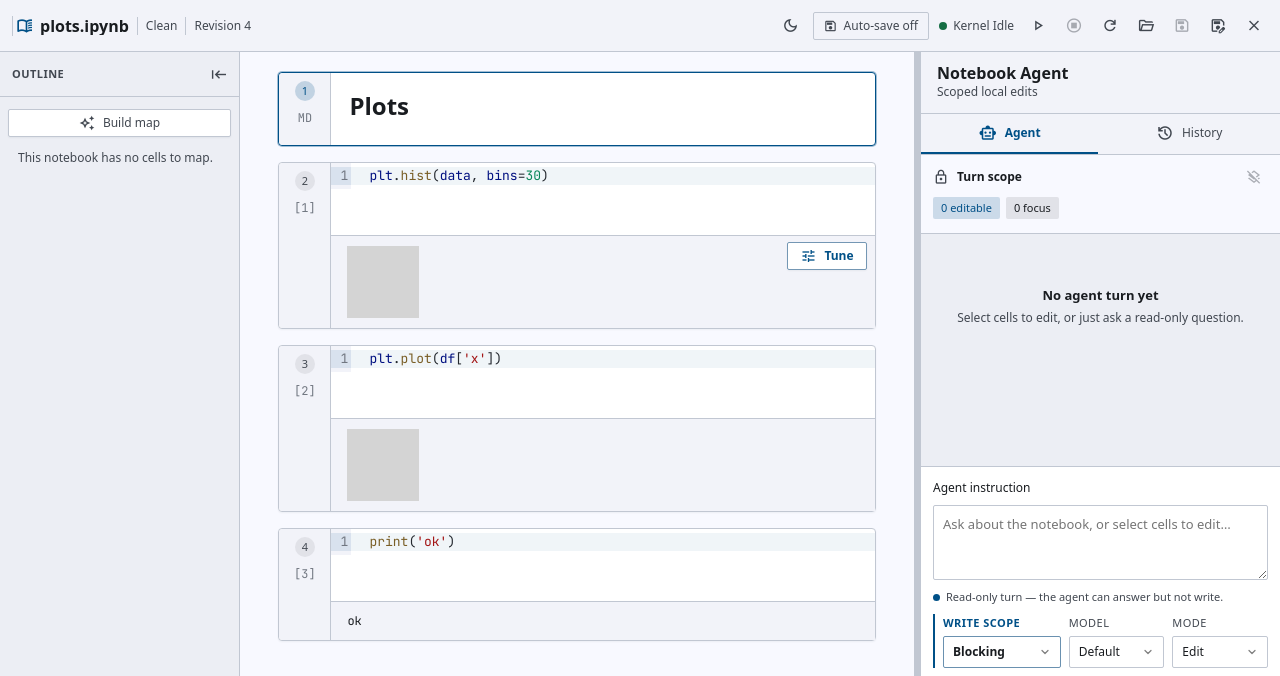
it: the Tune entry point, end to end › applies the values the user dialled in, and says the user did it
Click the button with aria-label "Tune code cell 2" at point(827, 256), box [787, 242, 867, 270]
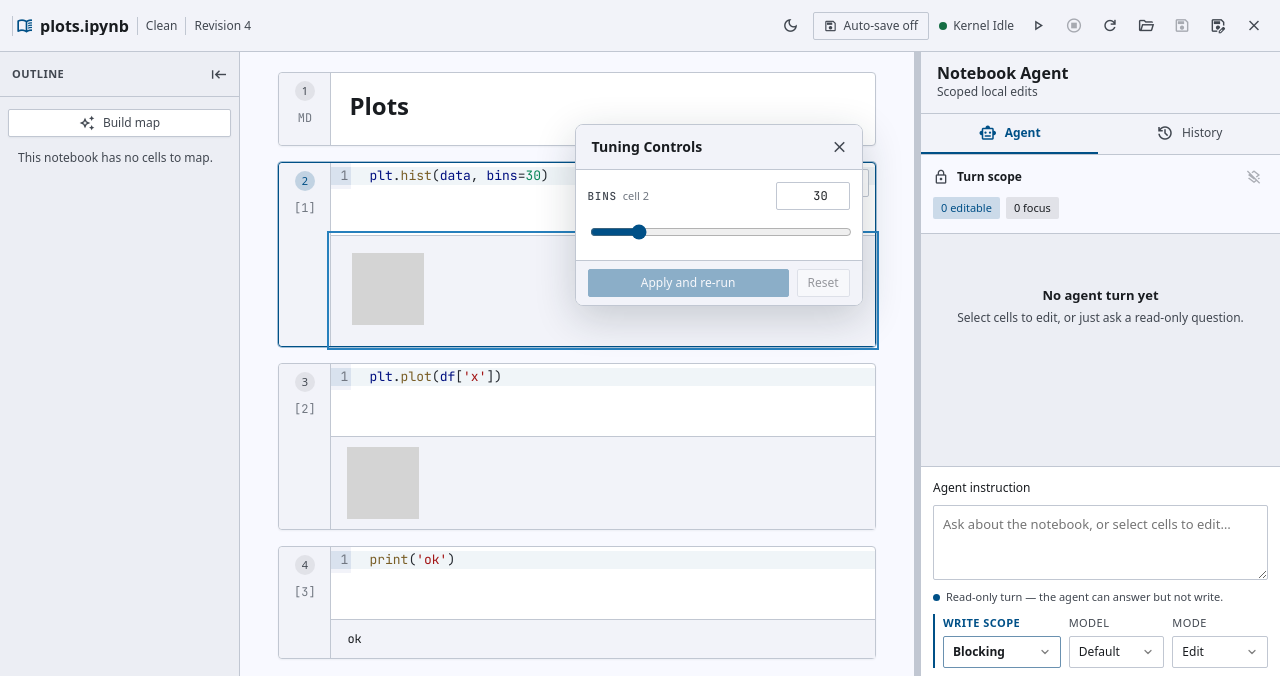
Replace the text in the number field named "BINS" with "40" at point(813, 196), box [776, 182, 850, 210]
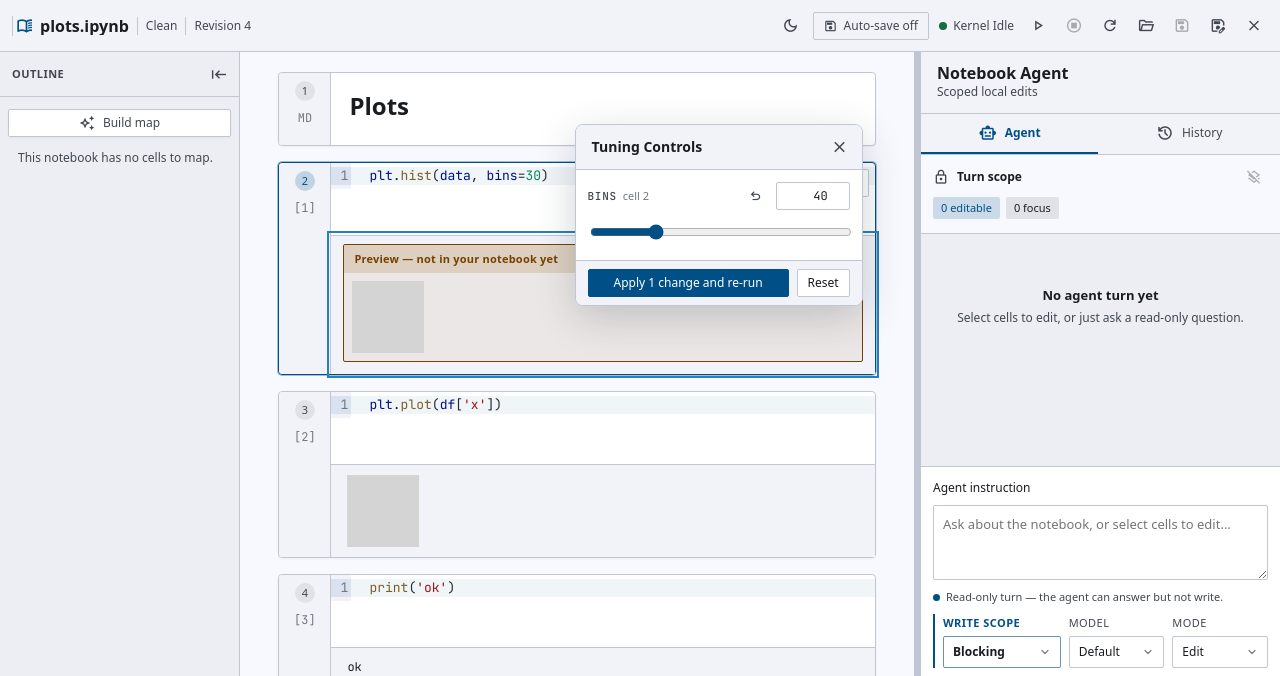
Click the button "Apply 1 change and re-run" at point(688, 283), box [588, 269, 788, 297]
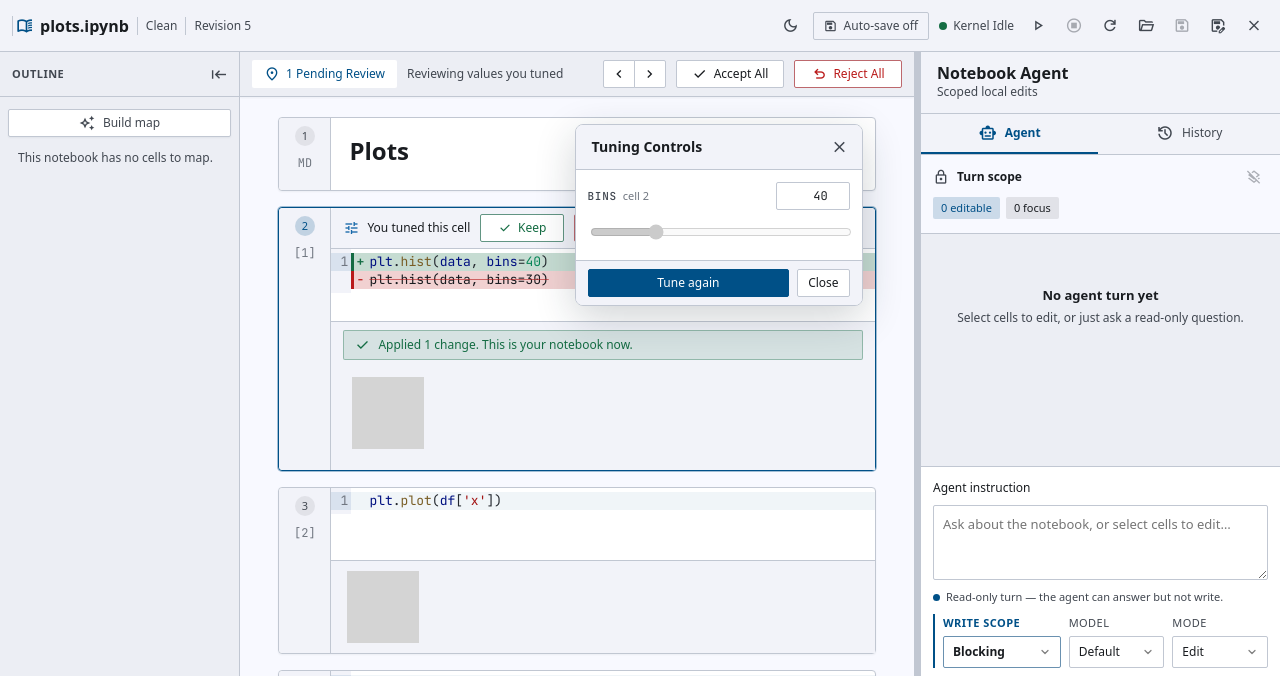
expect the text "You tuned this cell" is shown: met, box [343, 219, 470, 237]
expect the button with aria-label "Discard tuned change to code cell 2" is shown: met, box [574, 214, 658, 242]
